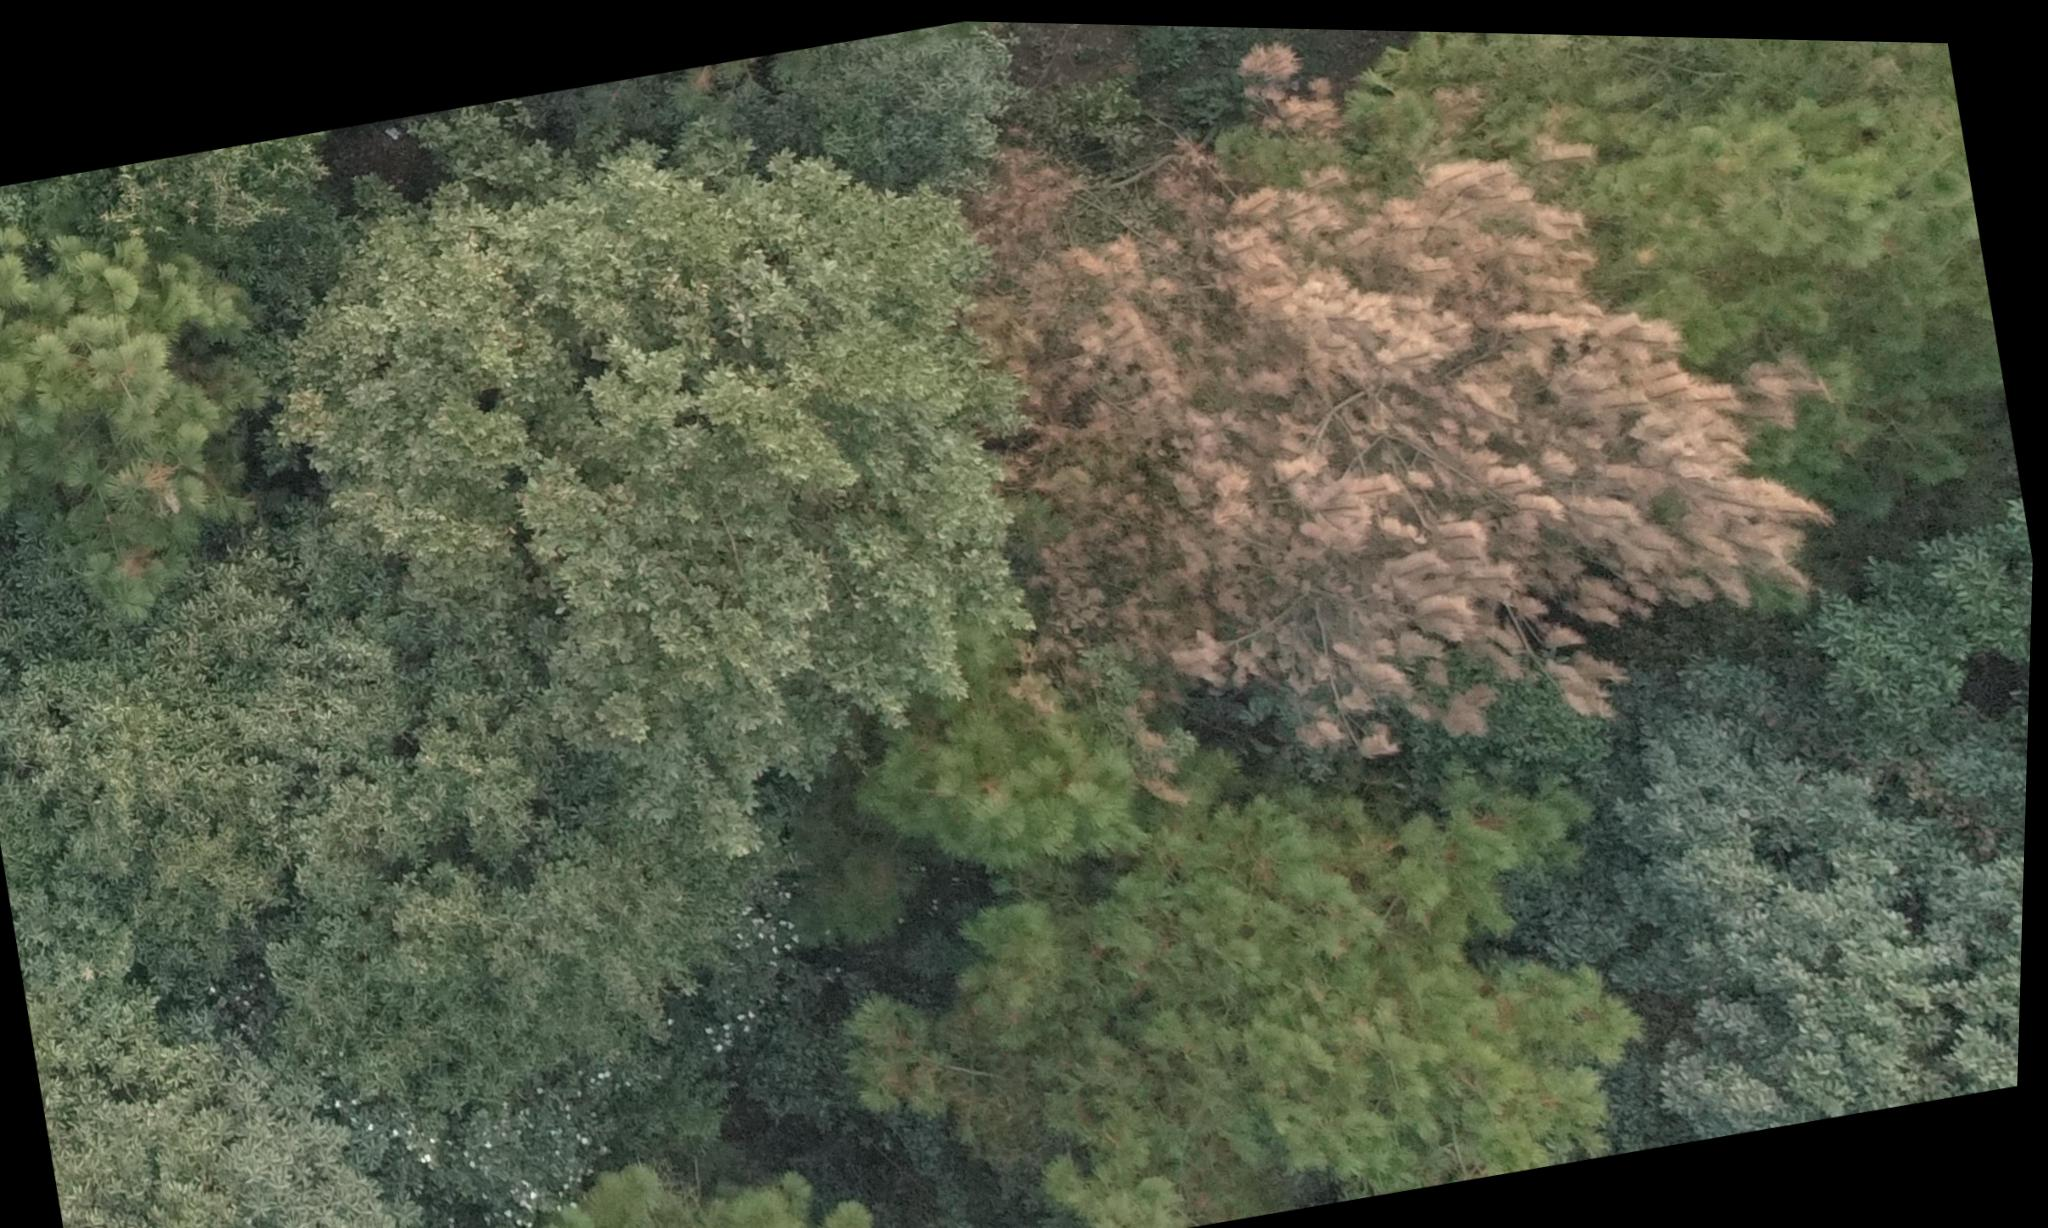heavy: (955, 37, 1870, 740)
